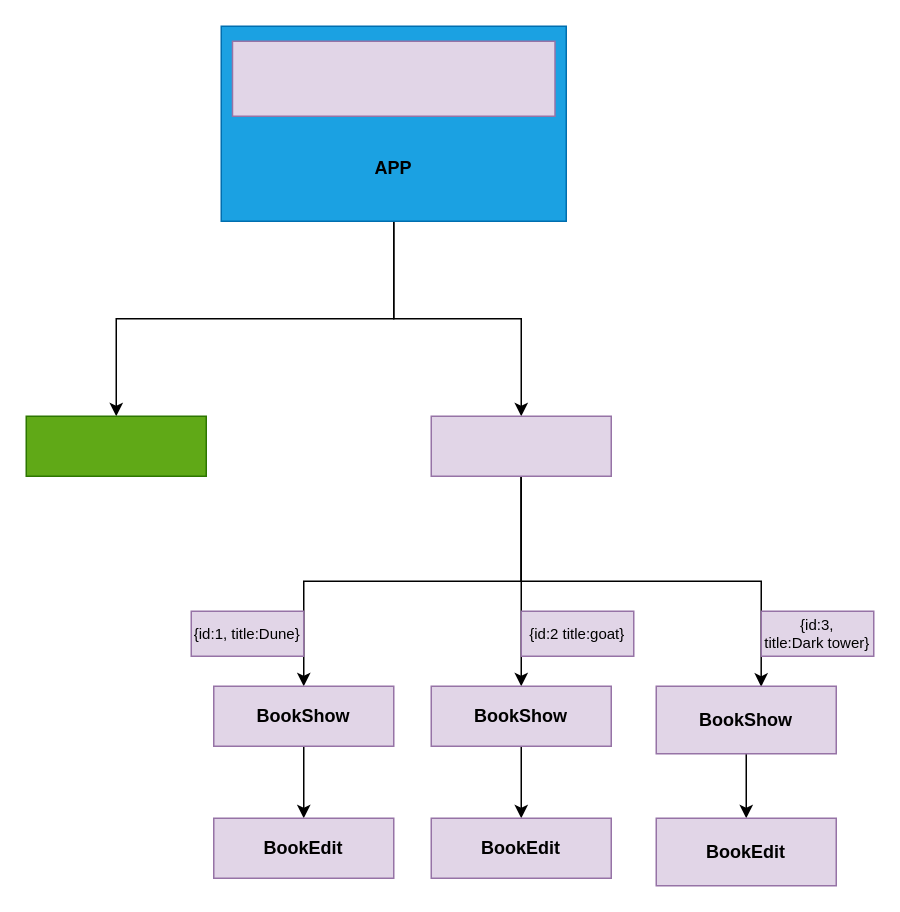
This 900x912 diagram has some shape labels left out. The shapes that lost their labels are listed below. From the top down, each one's box as (x1, y1, x2, y2) in pixels, then its label:
(231, 40, 555, 116): book [{id:1, title:Dune}, {id:2, title "goat"}, {id:3, title Dark Tower}
(25, 415, 206, 476): BookCreate
(430, 415, 611, 476): BookList
